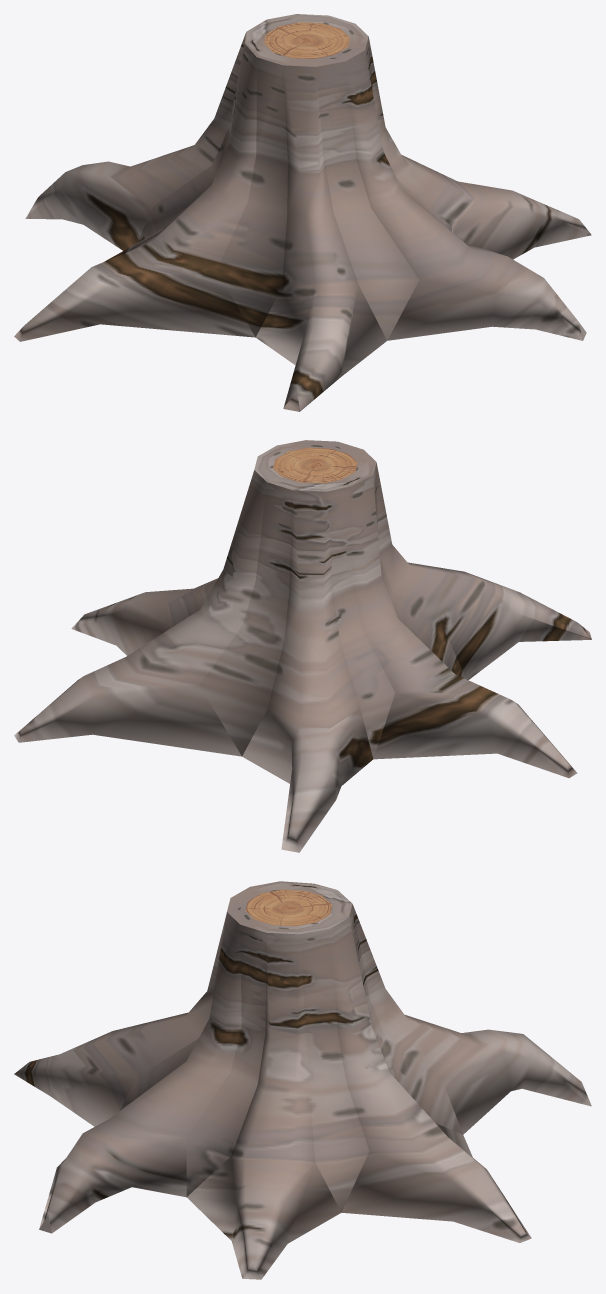
Rendered from obj_harvests_trees_birch03_p00.fbx.
3 views of the same model, one above another, from view 1: azimuth 30°, elevation 25°; view 2: azimuth 150°, elevation 25°; view 3: azimuth 270°, elevation 25° (orthographic). The views are drawn at different scales.
Visible parts, largest first — view 1: chunk00; view 2: chunk00; view 3: chunk00.
Boxes of the visible parts, box(x1,y1,x2,y2) form: chunk00: box(14, 14, 591, 411); chunk00: box(14, 440, 591, 852); chunk00: box(14, 881, 591, 1279).
Size of the model in its own units: 7.69 by 3.96 by 7.08.
